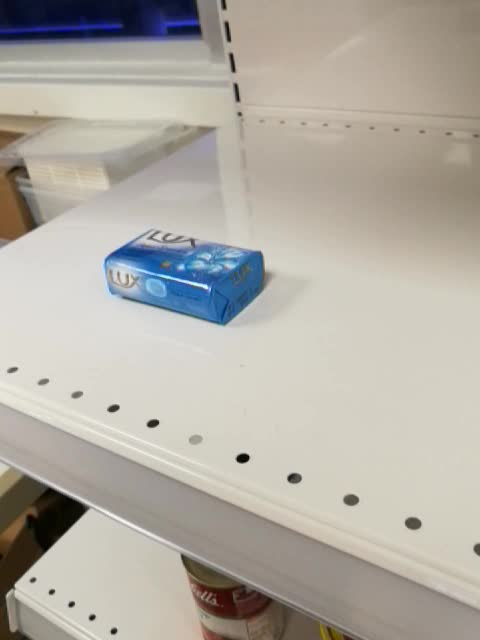soap: (104, 227, 266, 326)
